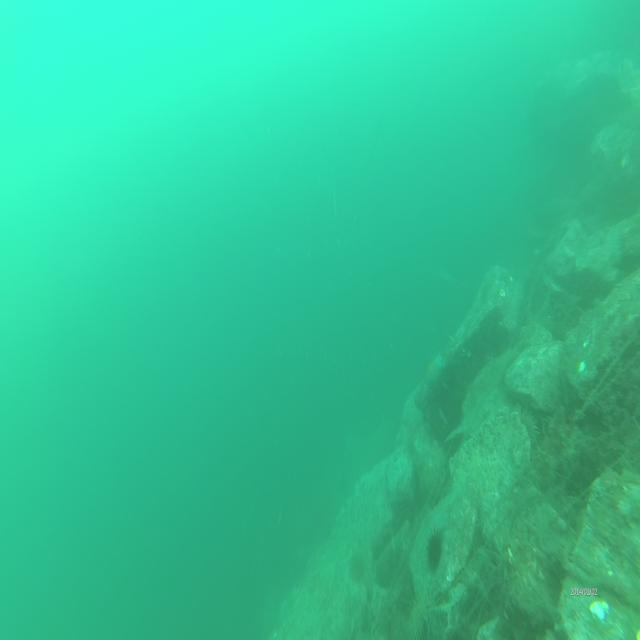echinus: (518, 408, 540, 449), (425, 528, 444, 572)
